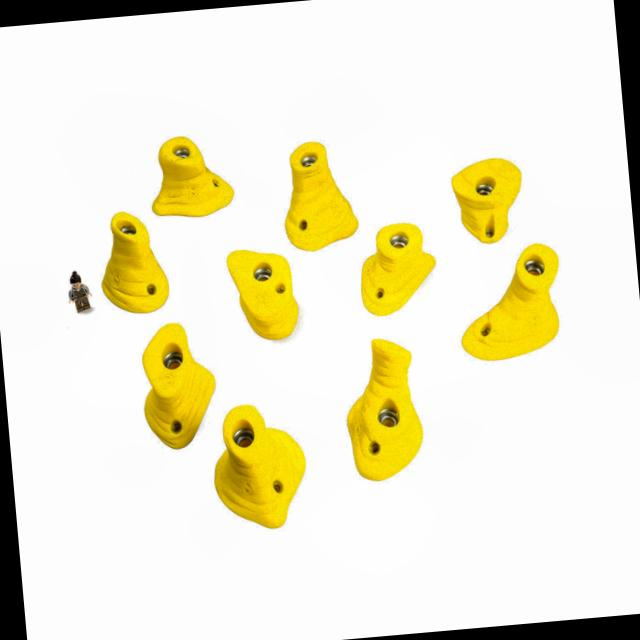Hold: (449, 237, 578, 377), (199, 397, 317, 550), (334, 330, 439, 494), (127, 316, 224, 461), (350, 216, 446, 332), (276, 128, 362, 255), (143, 129, 242, 227), (94, 209, 176, 325), (442, 144, 533, 248), (220, 234, 300, 346)
